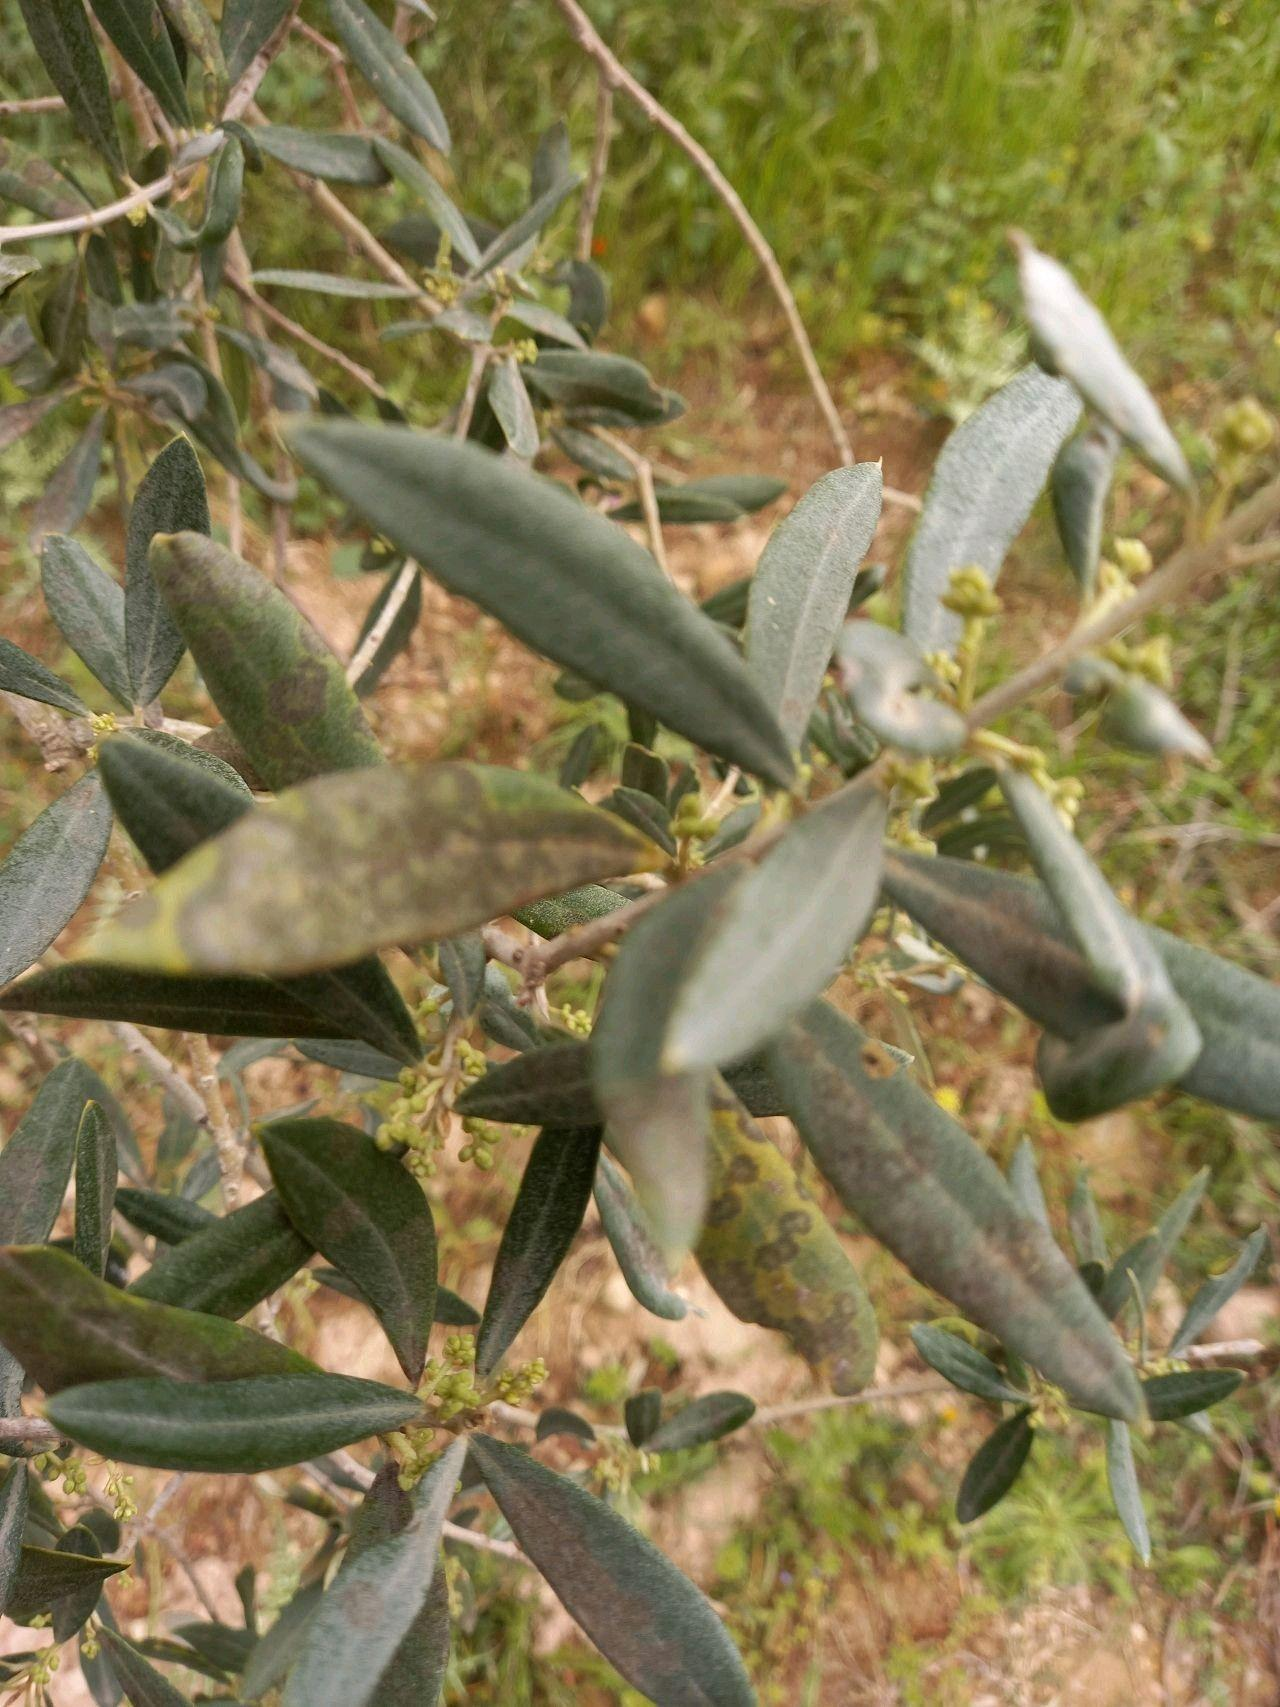OlivePeacockSpot: (783, 1015, 1152, 1429), (82, 758, 695, 979), (890, 858, 1277, 1110), (463, 1435, 752, 1704), (151, 538, 389, 782), (255, 1113, 448, 1387), (0, 1250, 311, 1401), (701, 1102, 861, 1383), (284, 1480, 460, 1707)
